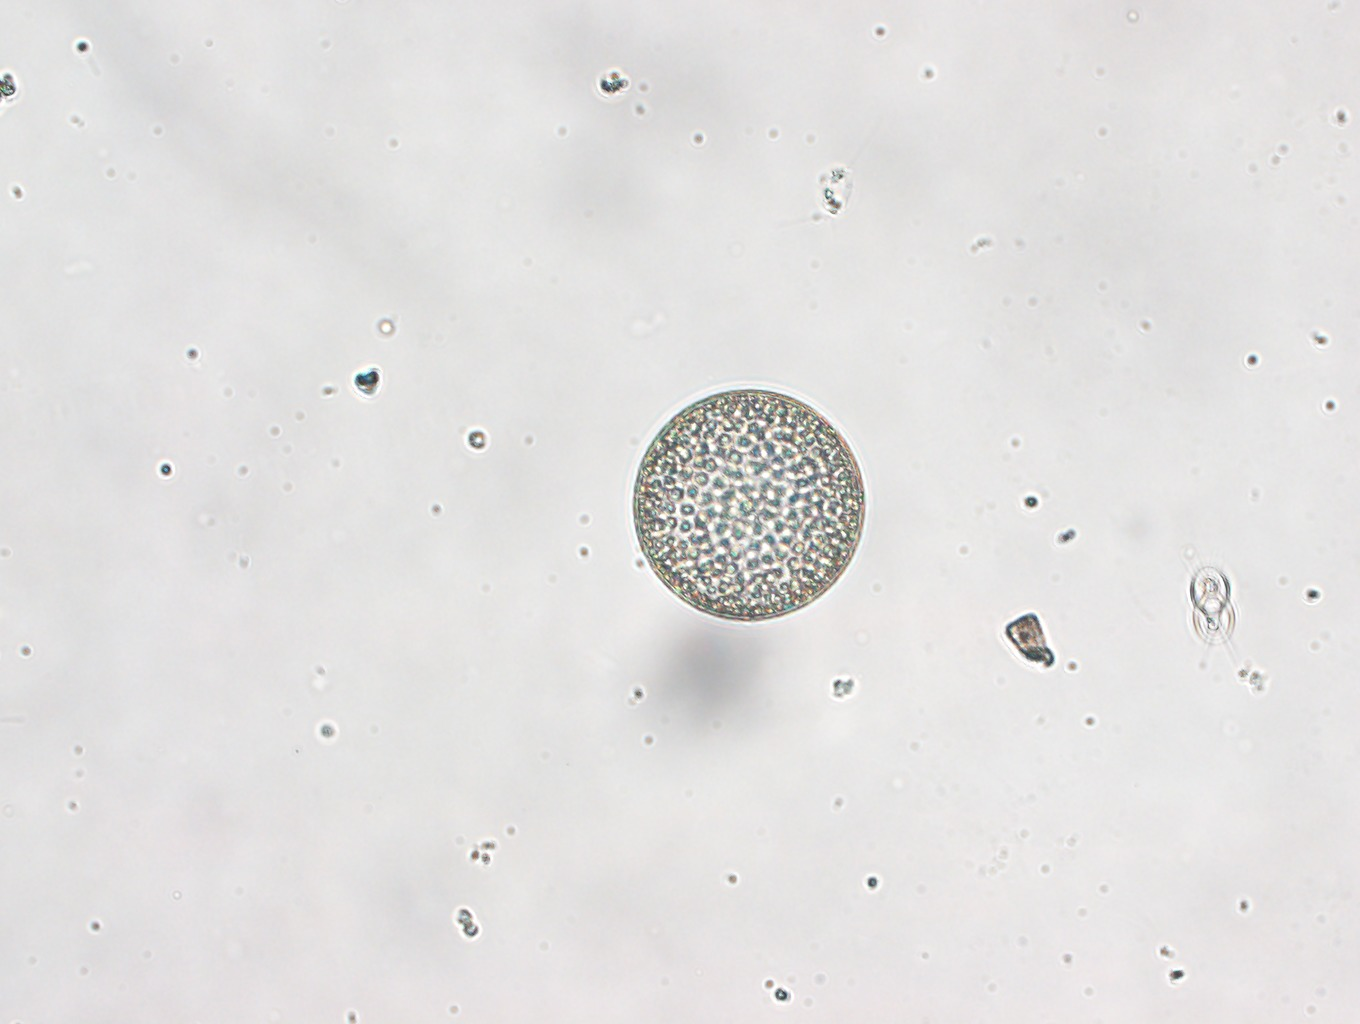coscinodiscus: (631, 387, 867, 622)
